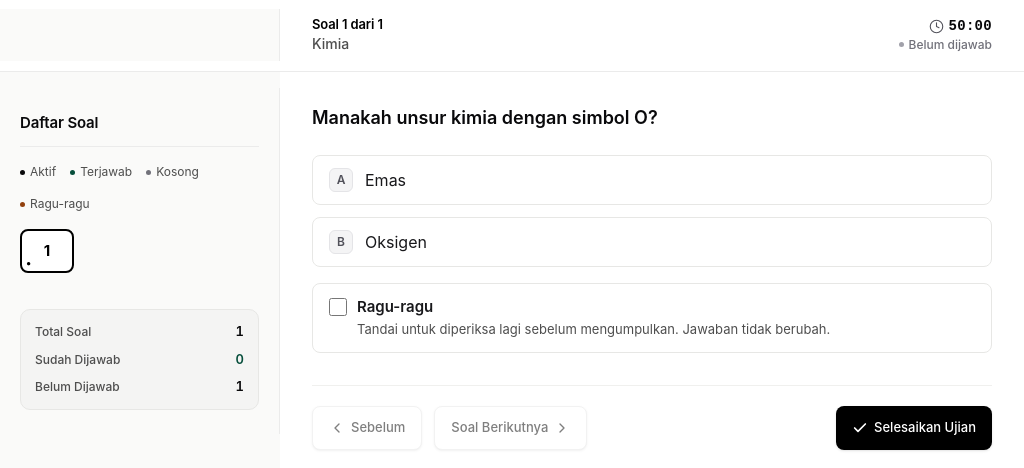
StudentExamWorkstation resilience › sends this tab's own exam session id when loading and saving
Check: the text "Manakah unsur kimia dengan simbol O?" is shown, box x1=312 y1=104 x2=658 y2=130
Click the radio button labelled "B Oksigen".
click(396, 242)  # box x1=312 y1=216 x2=992 y2=266
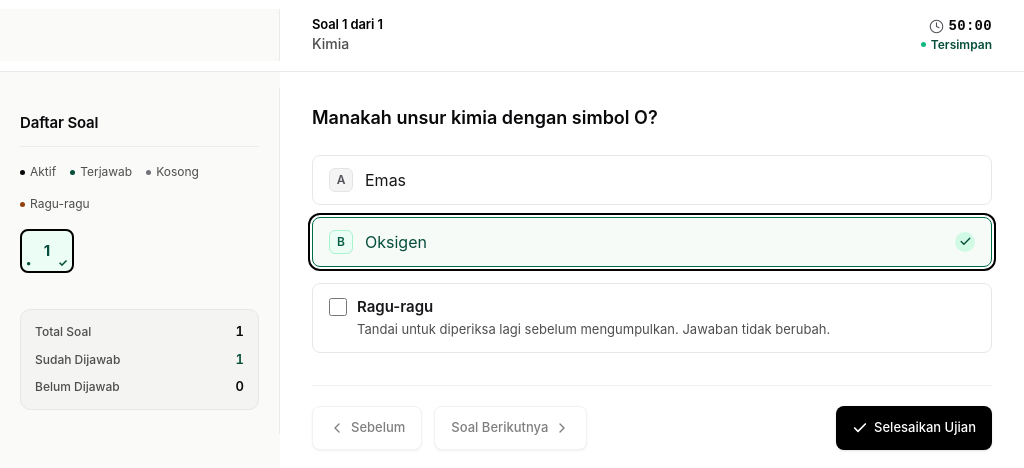
Check: the text "Tersimpan" is shown, box x1=931 y1=37 x2=992 y2=52
